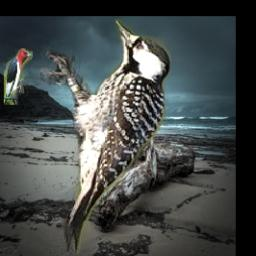Woodpecker: (40, 20, 171, 255), (4, 48, 33, 105)
